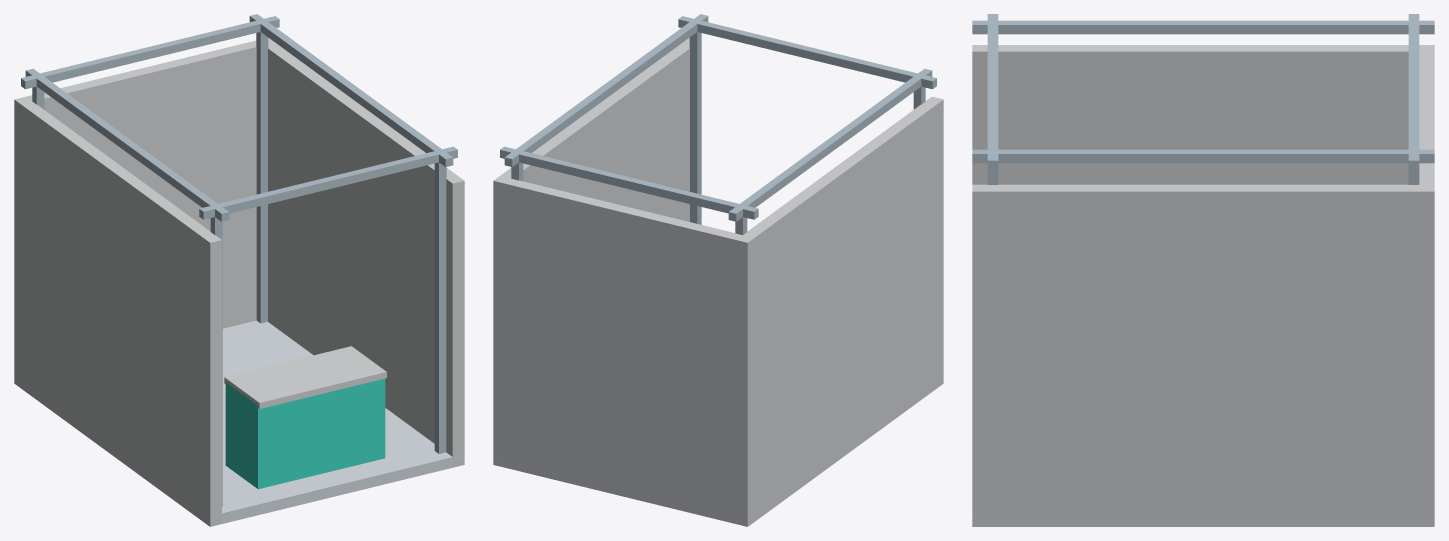
The picture shows the model from 3 angles, left to right: view 1: azimuth 30°, elevation 25°; view 2: azimuth 150°, elevation 25°; view 3: azimuth 270°, elevation 25°; orthographic projection. The views are drawn at different scales.
Parts seen in each view (by area): view 1: Exhibition Booth Concept; view 2: Exhibition Booth Concept; view 3: Exhibition Booth Concept.
Part boxes in pixels (x1=…): Exhibition Booth Concept: x1=14, y1=14, x2=464, y2=526; Exhibition Booth Concept: x1=493, y1=14, x2=943, y2=526; Exhibition Booth Concept: x1=972, y1=14, x2=1434, y2=526.
Bounding box in the file's own units: 3 × 3.49 × 4.
